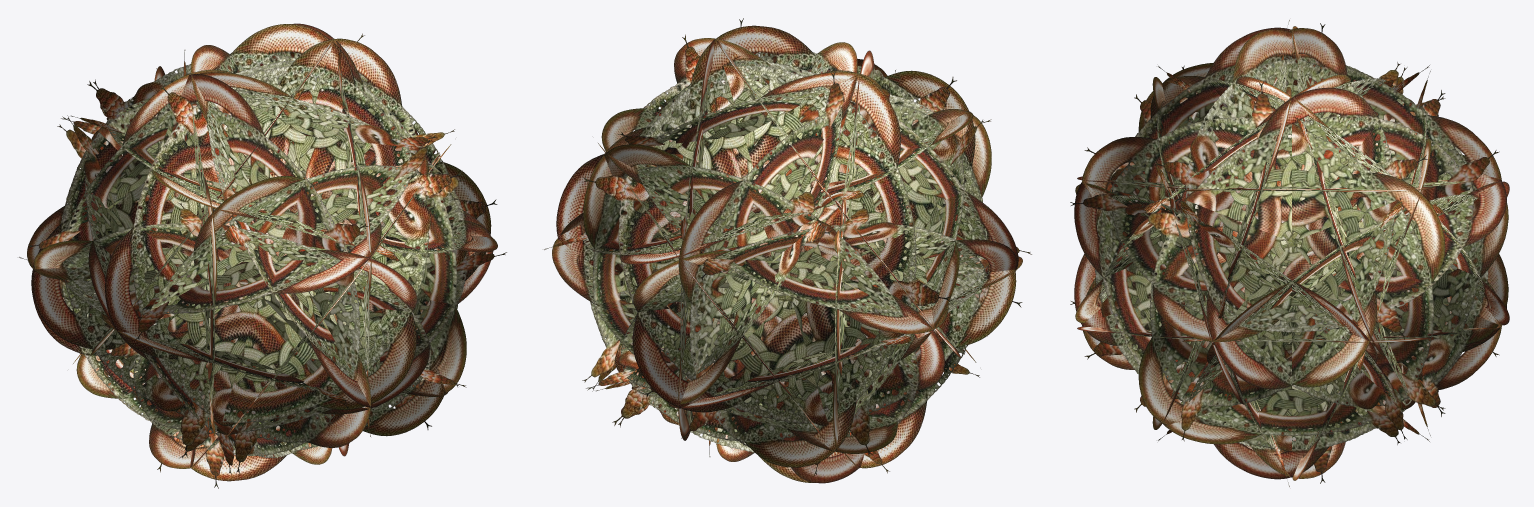
File: TruncatedGreatIcosahedron41.gltf
The picture shows the model from 3 angles, left to right: view 1: azimuth 30°, elevation 25°; view 2: azimuth 150°, elevation 25°; view 3: azimuth 270°, elevation 25°; orthographic projection. The views are drawn at different scales.
Parts seen in each view (by area): view 1: TruncatedGreatIcosahedron; view 2: TruncatedGreatIcosahedron; view 3: TruncatedGreatIcosahedron.
Boxes of the visible parts, box(x1,y1,x2,y2) form: TruncatedGreatIcosahedron: box(19, 23, 506, 488); TruncatedGreatIcosahedron: box(544, 18, 1031, 483); TruncatedGreatIcosahedron: box(1070, 20, 1509, 486).
Size of the model in its own units: 2 by 2 by 2.
1 material, 1 textured.
